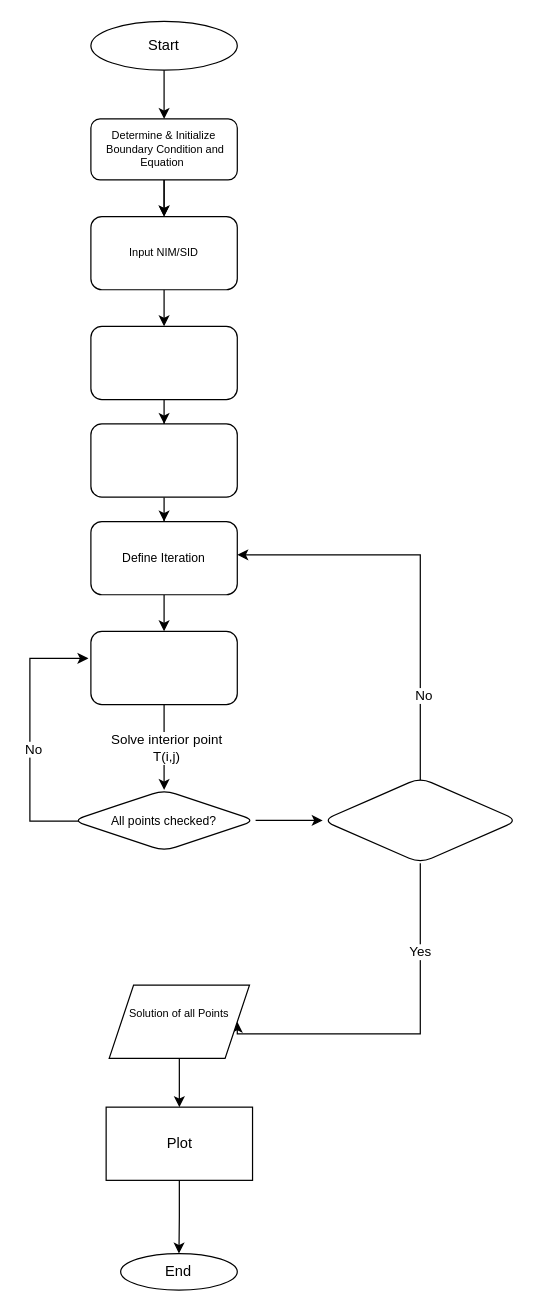
Some shapes in this 539 by 1312 pixel diagram are drawn without their labels. Here are the shapes that lost their labels. From the top down, the centre of each, then its label:
(163,362): Apply Boundary Conditions based on inputted NIM/SID
(163,460): Dirichlet Method
(163,667): Gauss-Seidel Method (Problem 1)
(419,820): Converged in n iteration?
